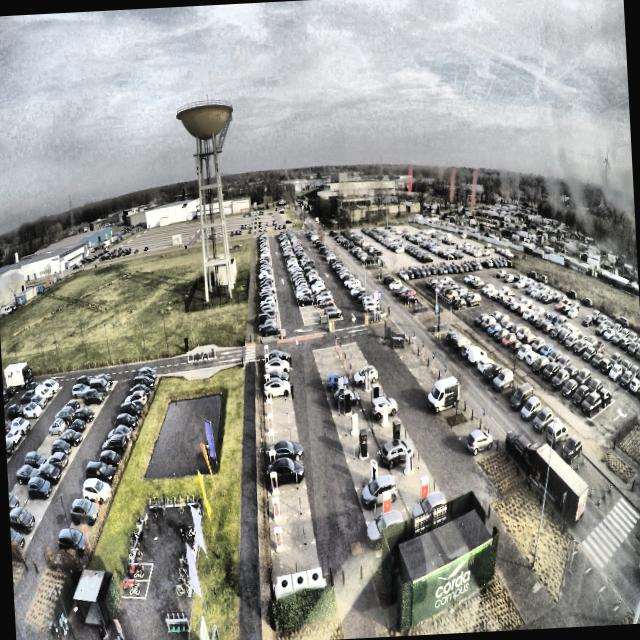cabinet: (277, 567, 323, 592)
car: (268, 459, 305, 485), (268, 439, 305, 465), (264, 378, 291, 400), (264, 356, 291, 374), (262, 369, 290, 383), (267, 349, 290, 365)
parking: (272, 541, 320, 587), (270, 512, 315, 552), (268, 486, 310, 520), (268, 464, 307, 494), (266, 445, 302, 473), (265, 428, 299, 451), (265, 412, 296, 435), (264, 383, 291, 404), (265, 399, 294, 417), (263, 371, 289, 390), (262, 354, 287, 368), (263, 363, 288, 375)
supercharger: (273, 527, 284, 551), (272, 498, 281, 520), (271, 471, 278, 488), (269, 450, 276, 467), (268, 432, 275, 449), (268, 416, 274, 433), (267, 400, 273, 415), (266, 386, 272, 401), (265, 375, 271, 386), (264, 346, 269, 355), (265, 355, 269, 365), (265, 364, 269, 373)
